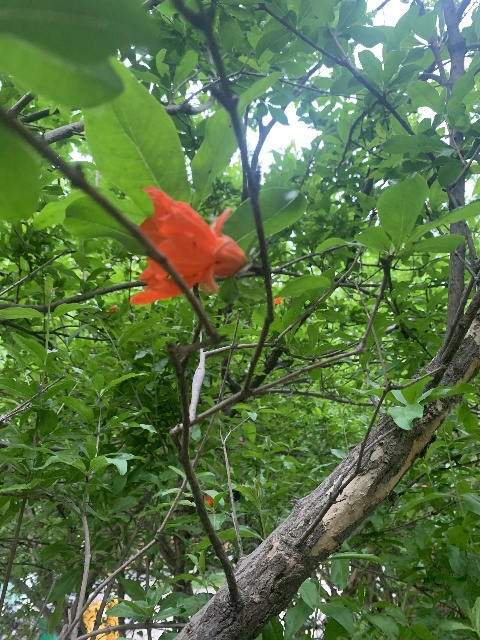bud: (109, 305, 117, 313)
flower: (130, 186, 246, 305)
